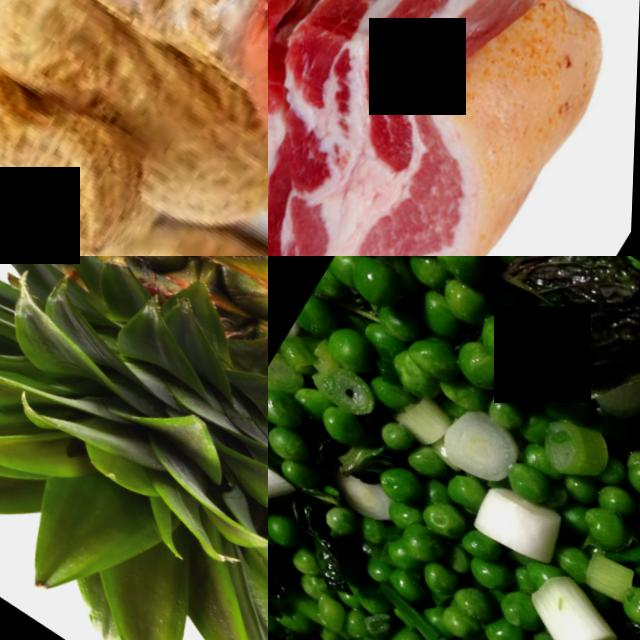peanuts: (0, 11, 160, 256), (84, 181, 268, 256)
peas: (304, 256, 541, 406), (355, 476, 556, 640), (577, 432, 640, 565)
pineapple: (0, 256, 268, 640)
pork belly: (268, 0, 623, 256), (268, 0, 403, 256)
